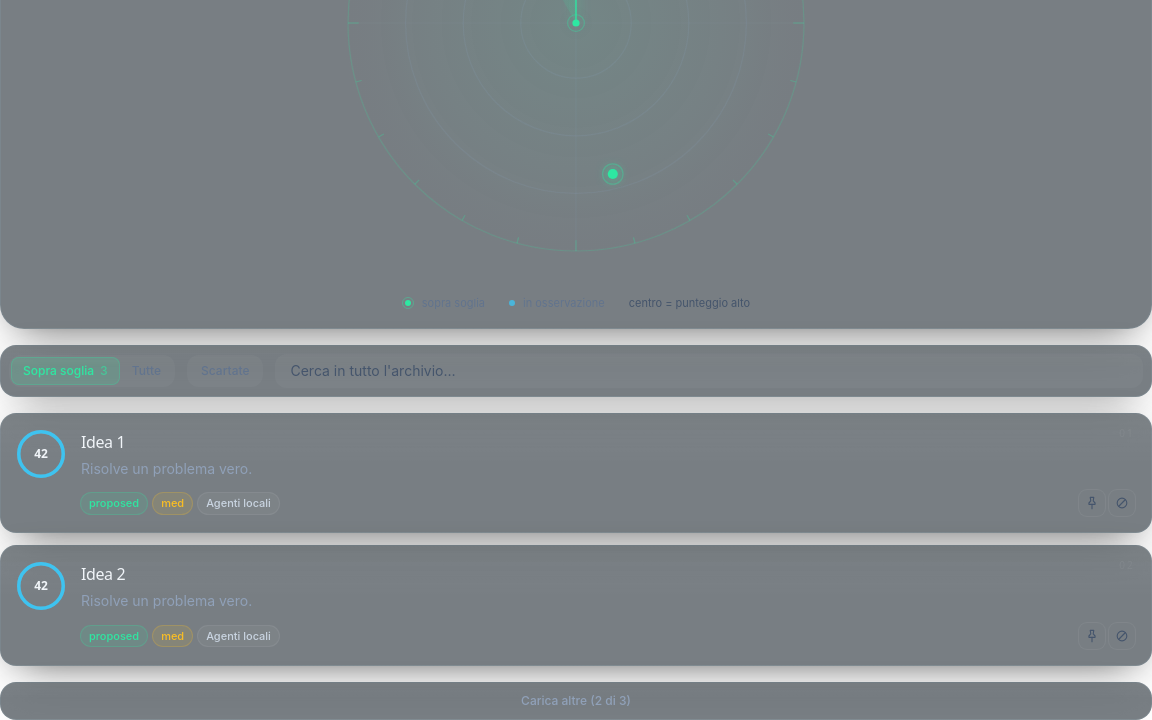
Test case: RadarView › "Carica altre" chiede la pagina successiva con offset
(page scrolled)
What coordinates should you click on to do the following:
click the button "Carica altre (2 di 3)"
I would click on:
 (576, 701)
Its box is [0, 682, 1151, 719].
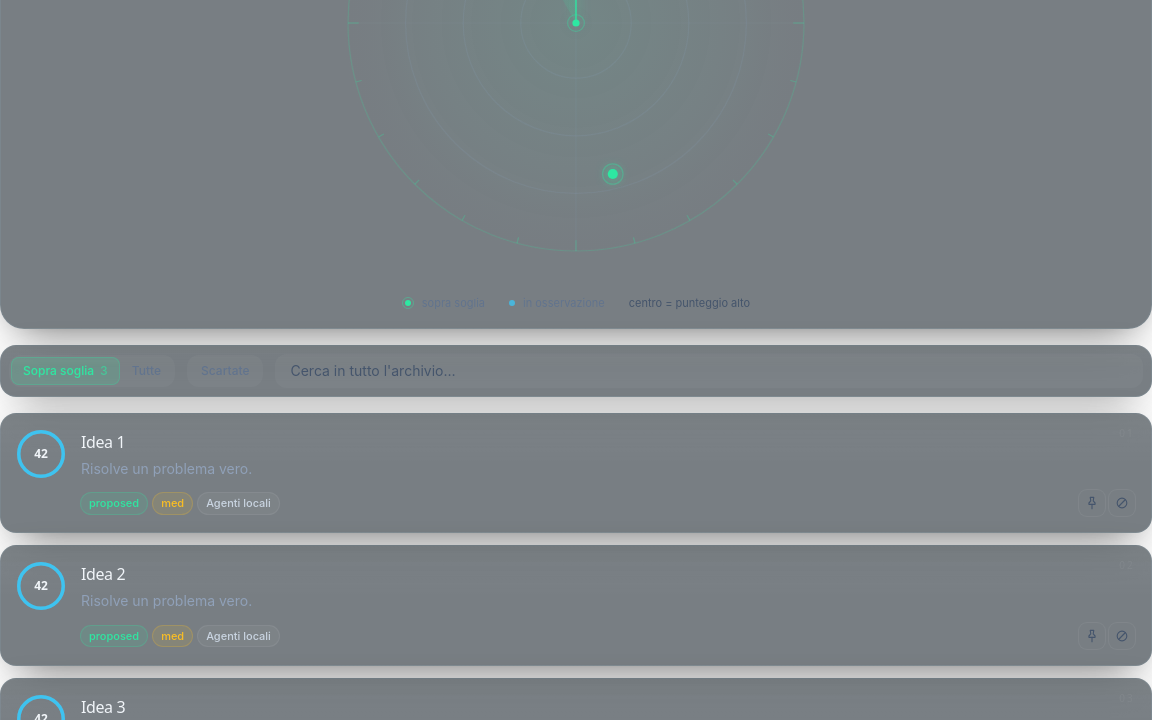
Check: the button "Carica altre" is gone
